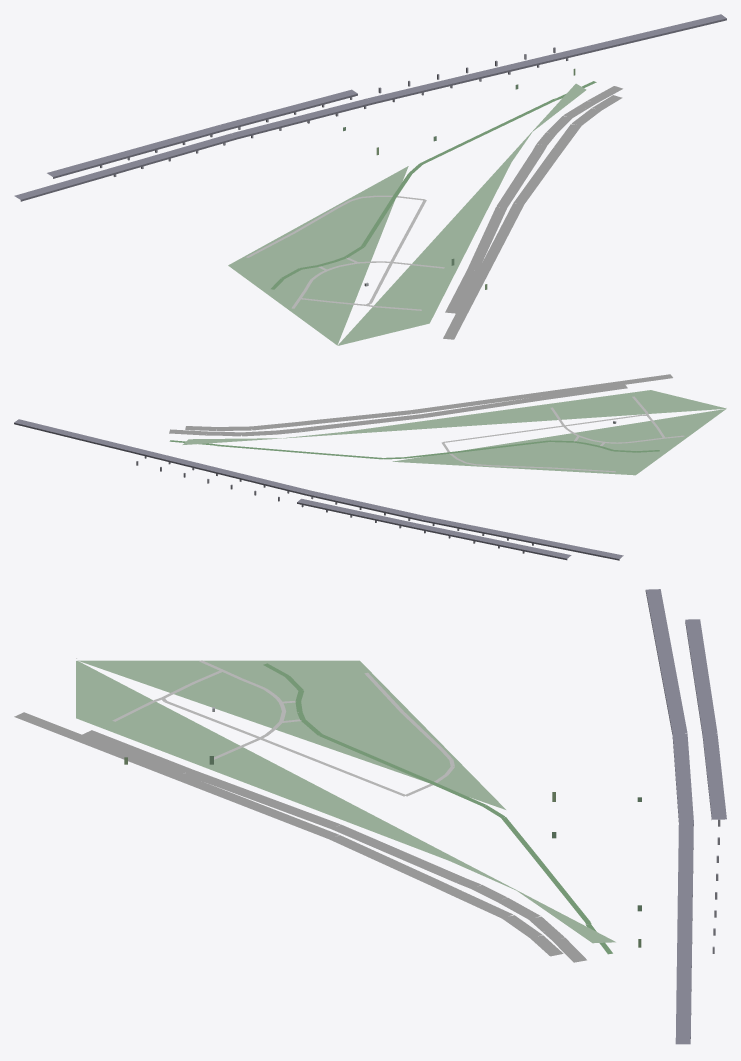
The picture shows the model from 3 angles, top to bottom: view 1: azimuth 30°, elevation 25°; view 2: azimuth 150°, elevation 25°; view 3: azimuth 270°, elevation 25°; orthographic projection. The views are drawn at different scales.
Bounding box in the file's own units: 750 × 8.77 × 500.
